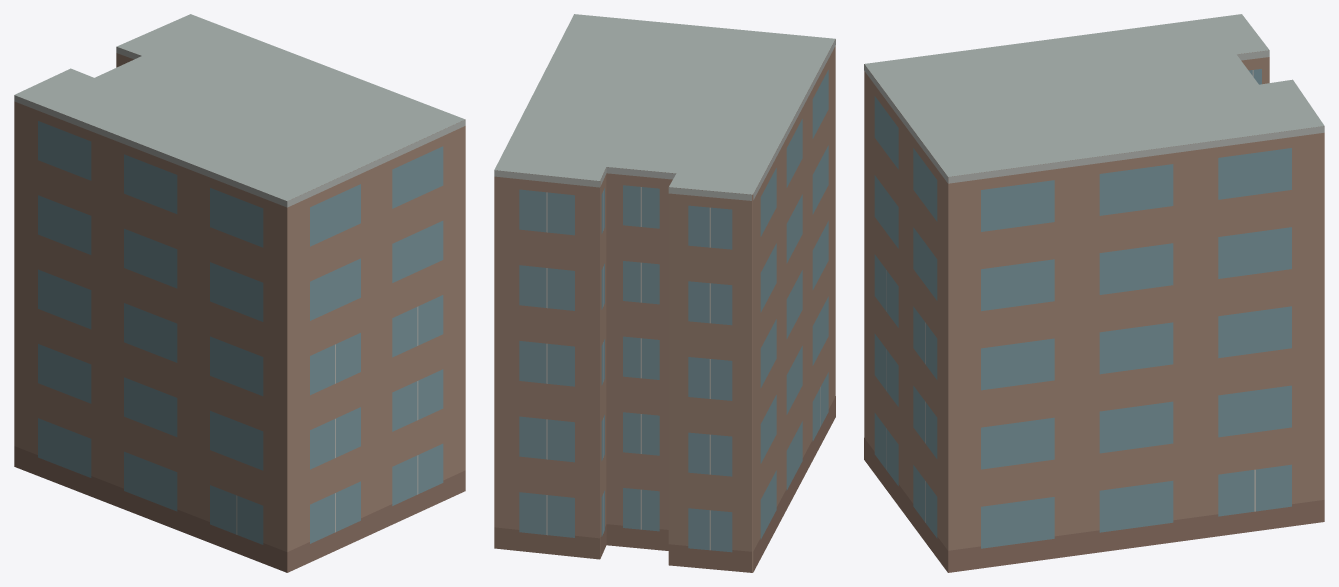
Rendered from survey-upis-32611879.glb.
3 renders of one model, left to right at view 1: azimuth 30°, elevation 25°; view 2: azimuth 150°, elevation 25°; view 3: azimuth 270°, elevation 25°, orthographic. The views are drawn at different scales.
Parts seen in each view (by area): view 1: survey-upis-32611879.tmp; view 2: survey-upis-32611879.tmp; view 3: survey-upis-32611879.tmp.
Boxes of the visible parts, x1=… form: survey-upis-32611879.tmp: x1=14, y1=14, x2=465, y2=572; survey-upis-32611879.tmp: x1=494, y1=14, x2=835, y2=572; survey-upis-32611879.tmp: x1=864, y1=14, x2=1324, y2=572.
Size of the model in its own units: 12.63 by 14.3 by 15.08.
